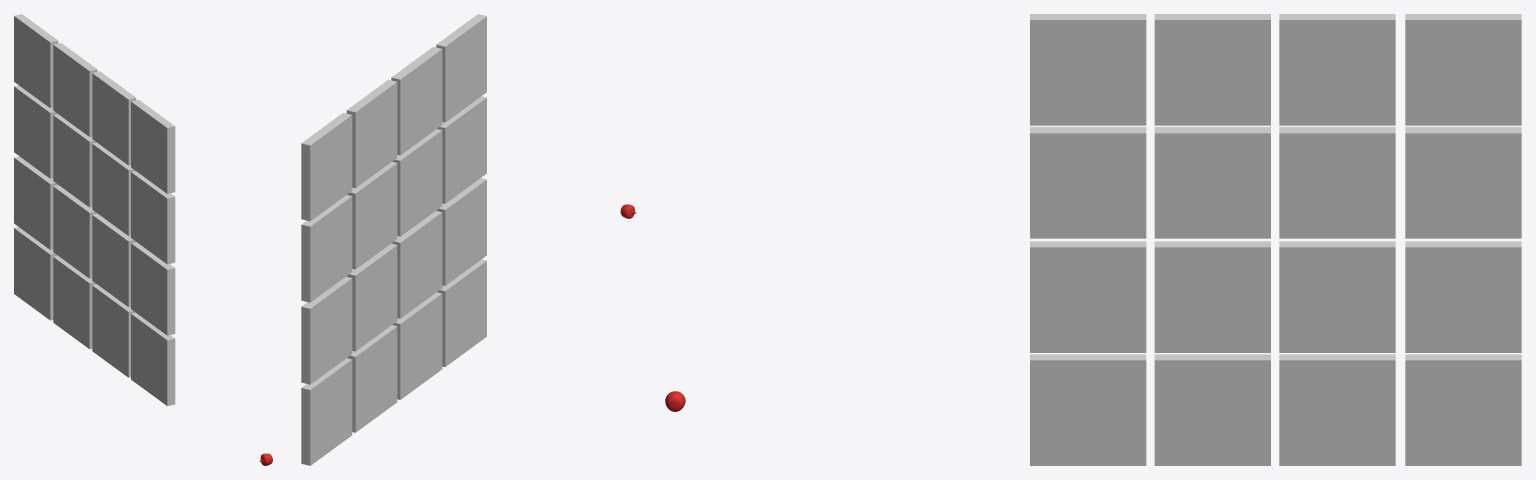
Rendered from Bolinha Vermelha.fbx.
The picture shows the model from 3 angles, left to right: view 1: azimuth 30°, elevation 25°; view 2: azimuth 150°, elevation 25°; view 3: azimuth 270°, elevation 25°; orthographic projection. The views are drawn at different scales.
Visible parts, largest first — view 1: Cube; view 2: Cube; view 3: Cube.
Boxes of the visible parts, x1,y1,x2,y2 form: Cube: (14,14,175,406); Cube: (301,14,486,465); Cube: (1030,14,1521,465).
Bounding box in the file's own units: 46.4 × 459 × 799.
1 material, 1 textured.
